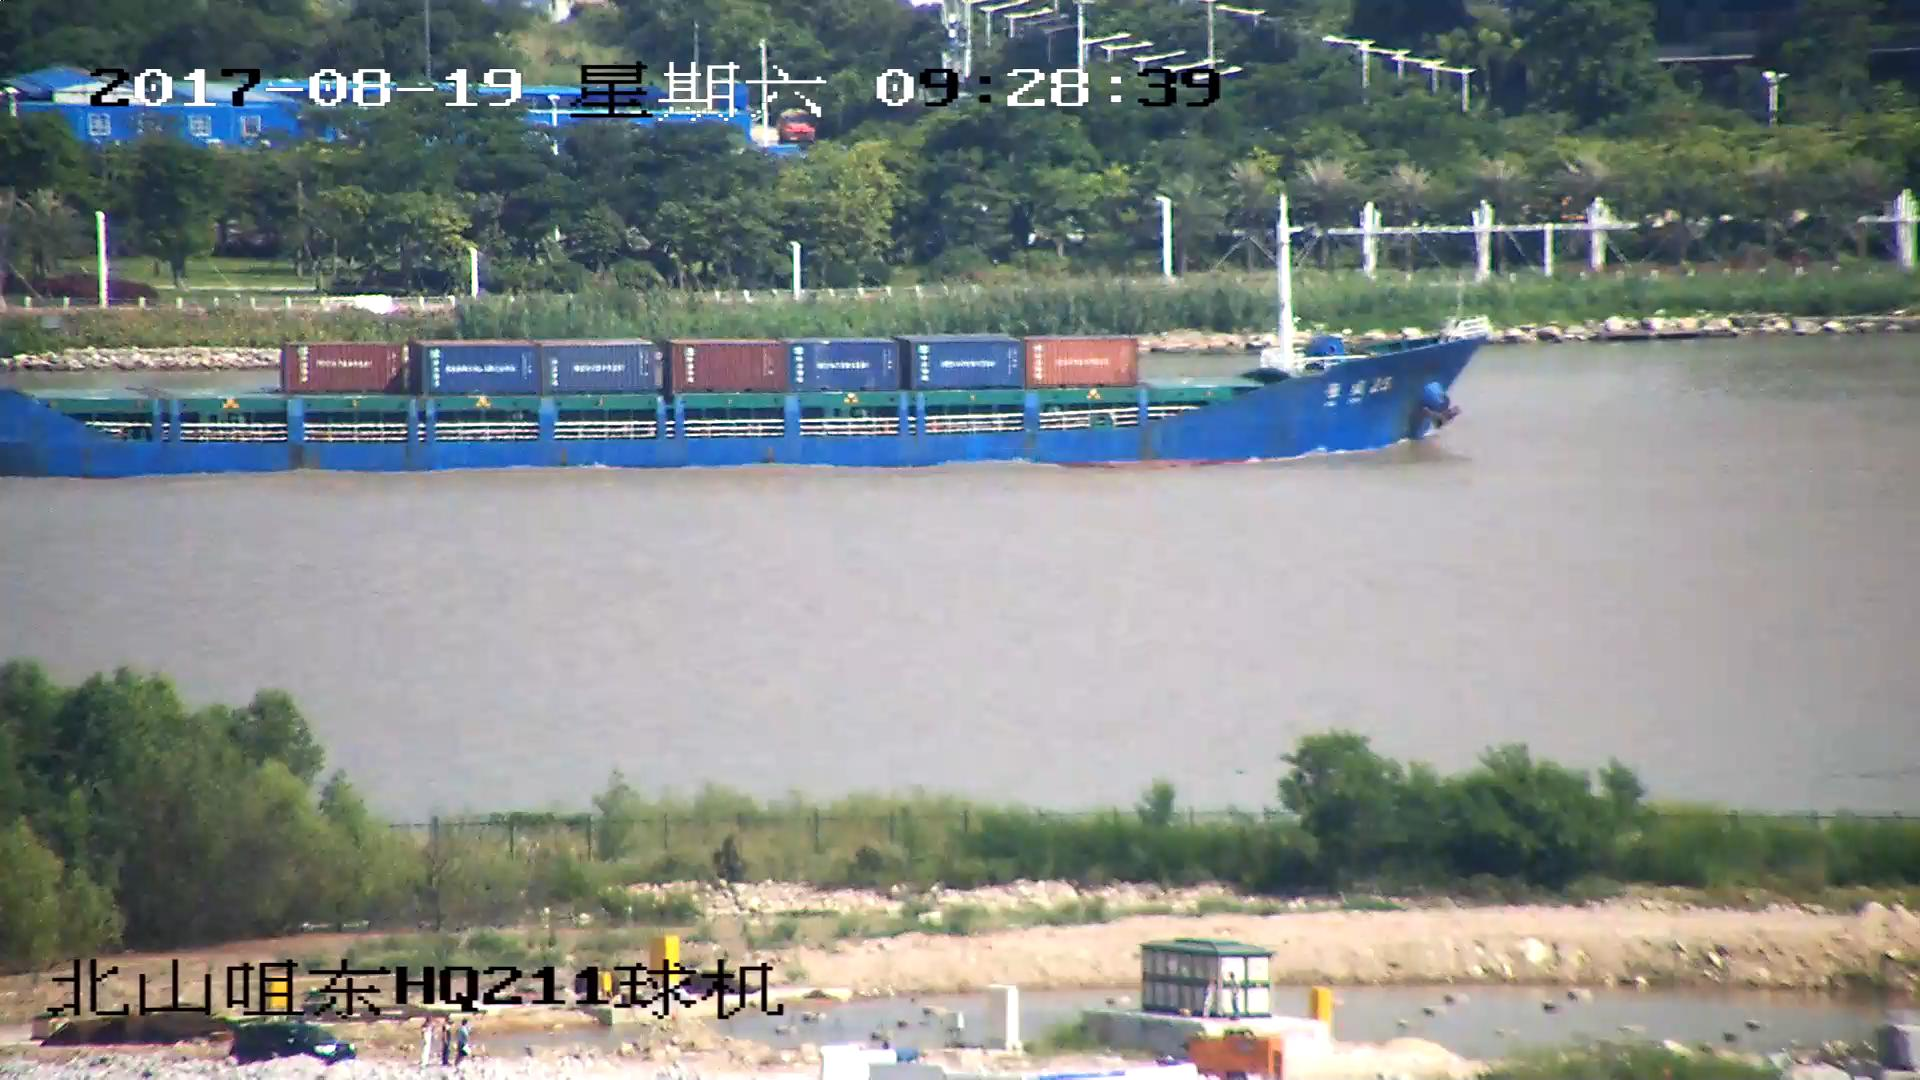general cargo ship: (1, 192, 1492, 470)
